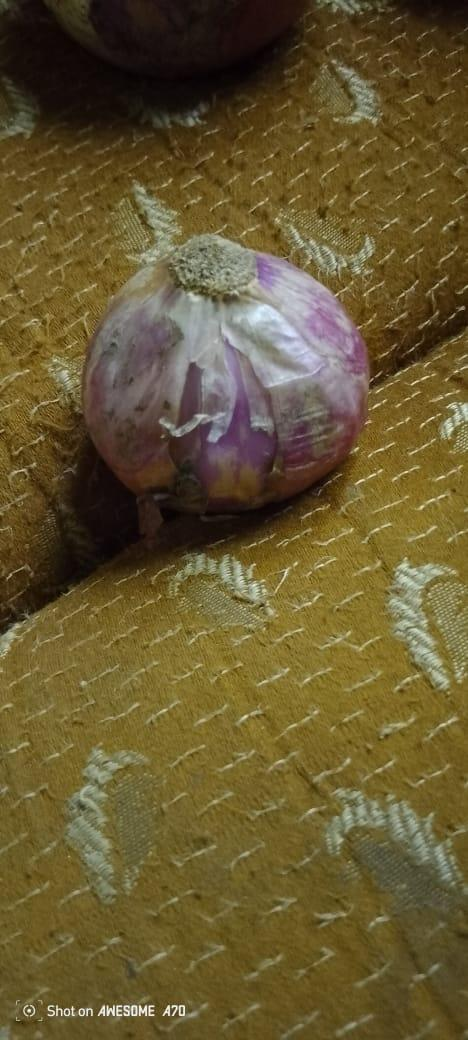non-mango: (90, 228, 364, 541)
